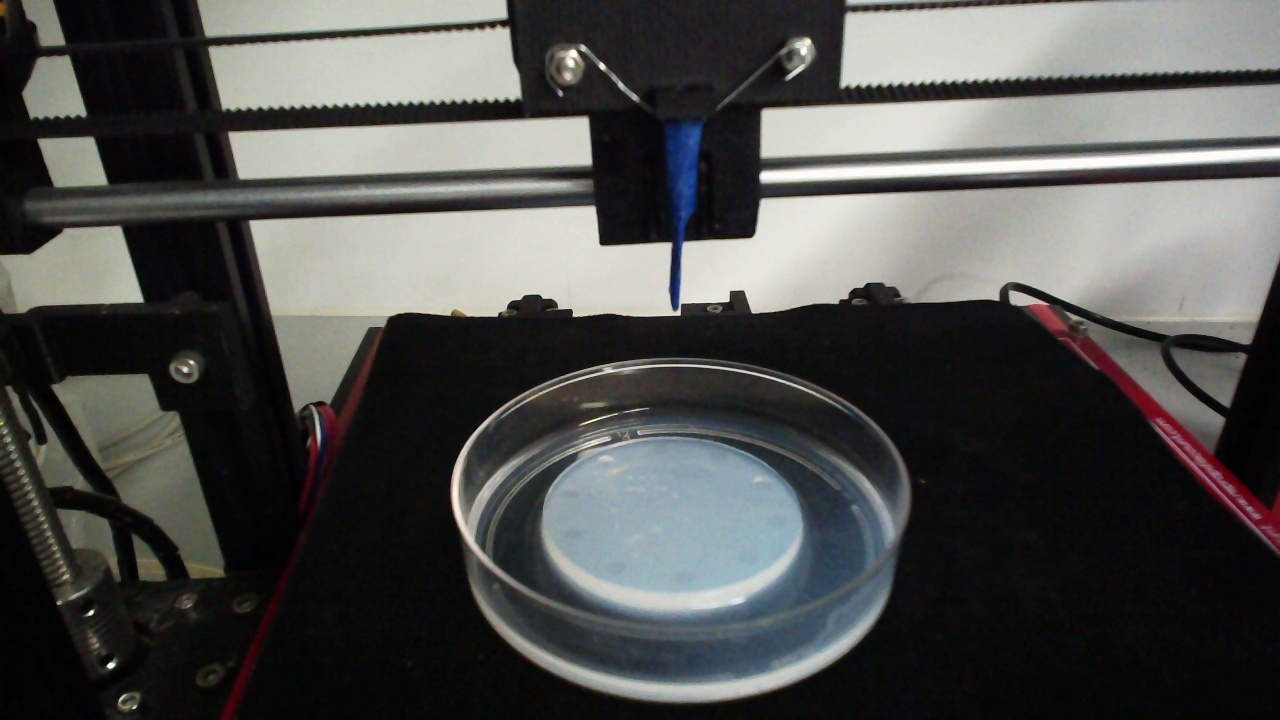groove: (674, 568, 695, 585), (604, 561, 627, 576), (738, 549, 758, 566), (708, 448, 729, 464), (767, 513, 787, 529), (750, 477, 772, 491), (559, 486, 580, 499), (562, 528, 582, 541), (650, 442, 669, 455), (597, 455, 614, 468)
needle: (669, 122, 701, 313)
